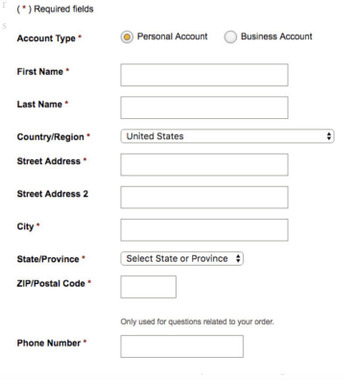_form_: (1, 1, 344, 380)
field: (118, 61, 291, 87), (119, 152, 290, 178), (119, 216, 289, 242), (117, 95, 289, 120), (118, 185, 290, 210), (120, 128, 336, 145), (118, 333, 245, 359), (120, 250, 245, 267), (119, 275, 178, 300)
field_with_label: (14, 59, 293, 88), (16, 151, 292, 180), (16, 215, 292, 243), (17, 184, 291, 211), (17, 94, 290, 121), (17, 126, 337, 147), (17, 332, 247, 360), (16, 273, 180, 300), (17, 249, 247, 268)
radio: (118, 28, 135, 44), (223, 28, 238, 44)
radio_with_label: (115, 26, 209, 46), (220, 26, 313, 46)
